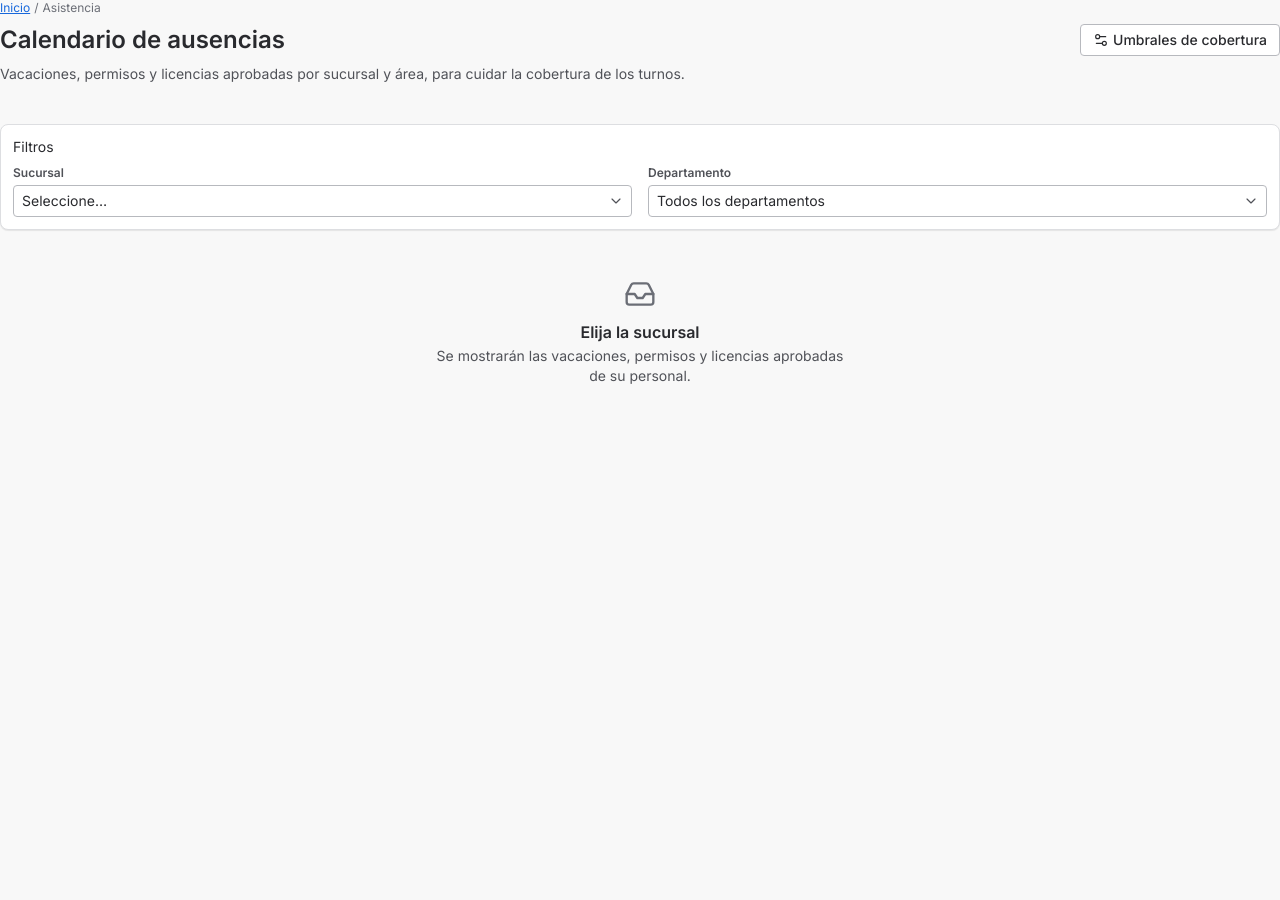
Calendario de ausencias › navega al mes siguiente y vuelve a hoy
The image size is (1280, 900).
Select "Central" in the dropdown labelled "Sucursal" at (322,201), box [13,185,632,217]
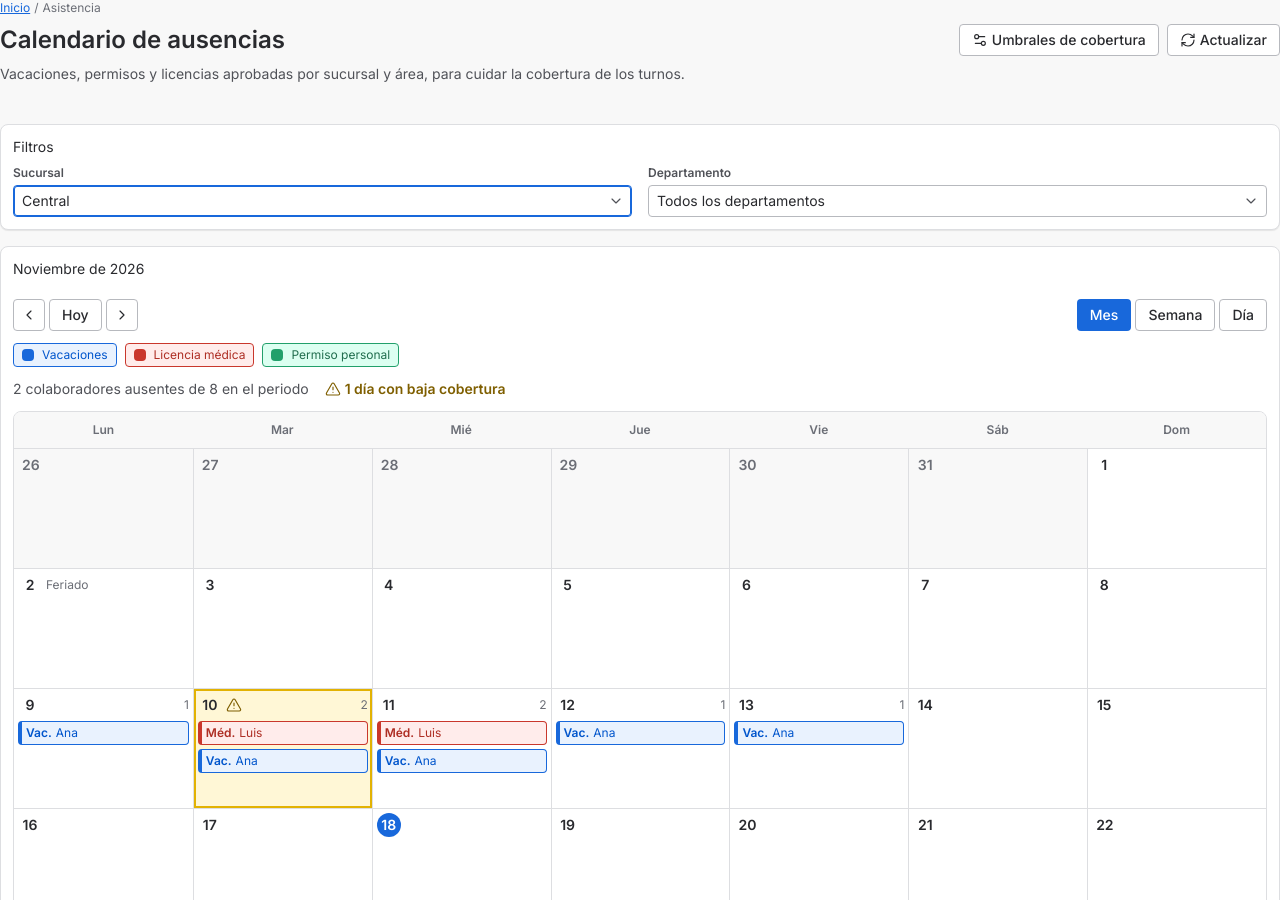
Click the button named "Siguiente".
click(122, 315)  # box [106,299,138,331]
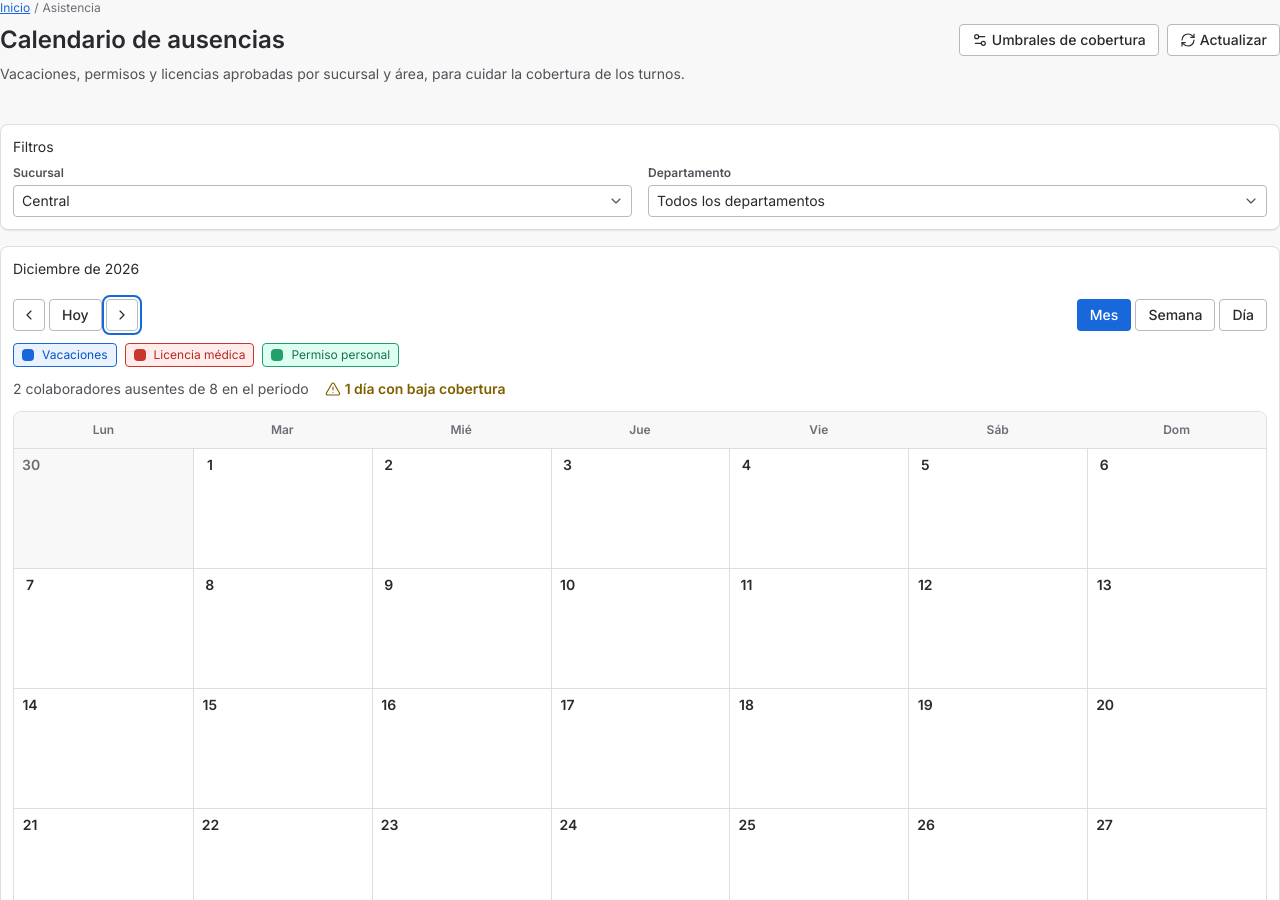
expect the heading "Diciembre de 2026" is shown: met, box [13,259,139,279]
Click the button "Hoy".
click(75, 315)  # box [49,299,102,331]
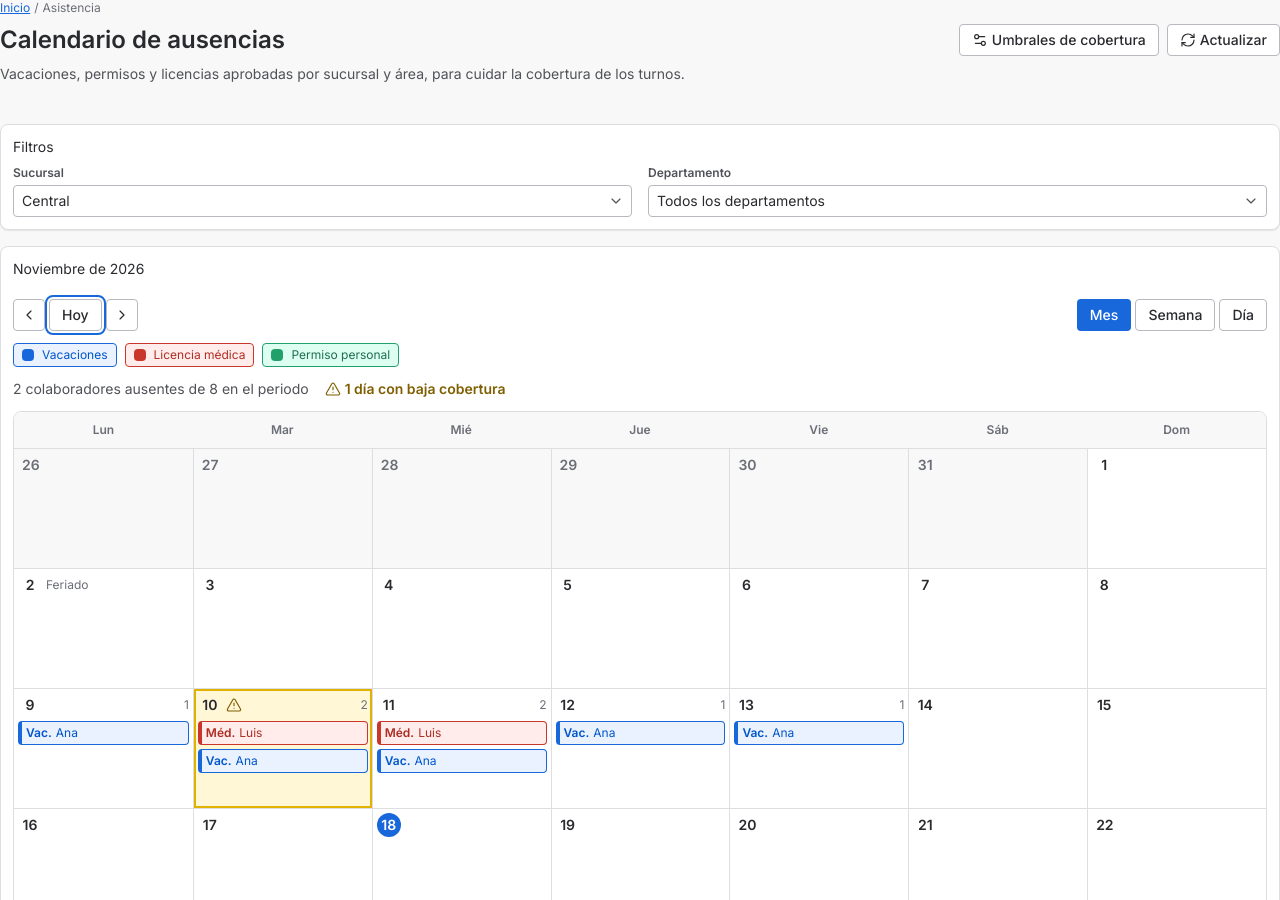
expect the heading "Noviembre de 2026" is shown: met, box [13,259,144,279]
